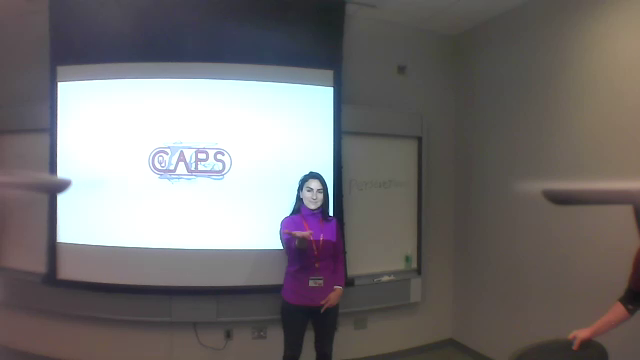land: (280, 223, 315, 245)
